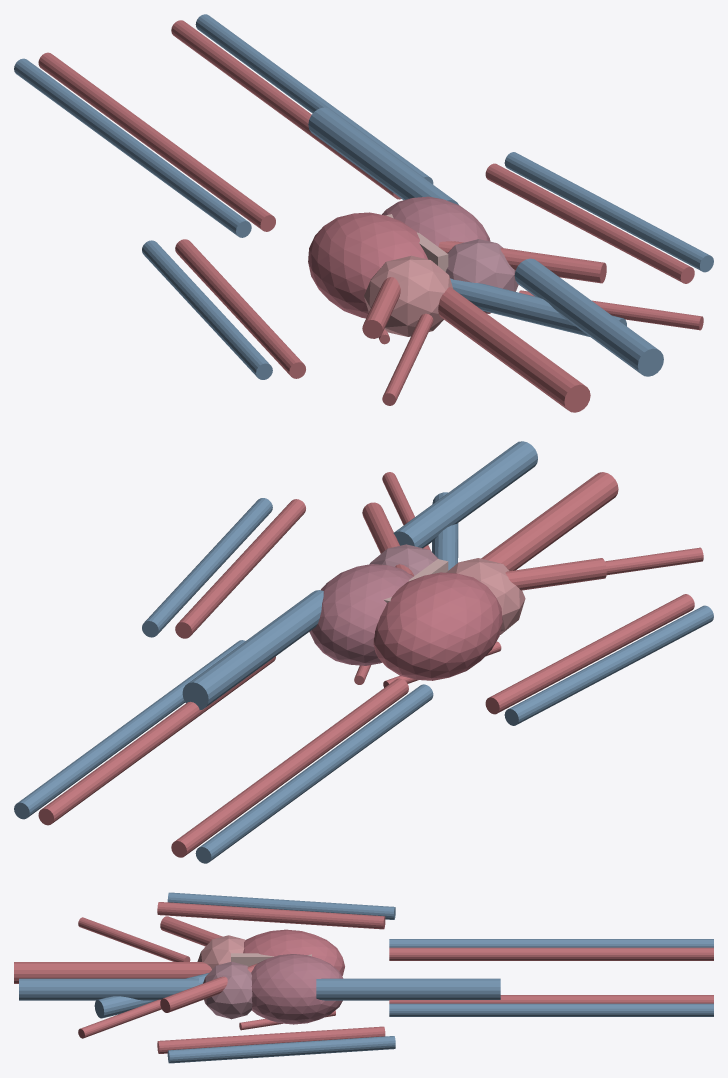
Rendered from cardiovascular-g3-medium.glb.
3 renders of one model, top to bottom at view 1: azimuth 30°, elevation 25°; view 2: azimuth 150°, elevation 25°; view 3: azimuth 270°, elevation 25°, orthographic. The views are drawn at different scales.
Visible parts, largest first — view 1: left_ventricle, aorta, left_leg_vein, left_leg_artery, superior_vena_cava, inferior_vena_cava, right_arm_artery, right_arm_vein, left_atrium, right_leg_artery, right_leg_vein, left_arm_vein (+8 smaller); view 2: left_ventricle, right_ventricle, left_leg_artery, left_leg_vein, inferior_vena_cava, superior_vena_cava, aorta, left_arm_artery, left_arm_vein, right_leg_vein, right_leg_artery, right_arm_vein (+8 smaller); view 3: right_ventricle, left_leg_artery, right_leg_vein, inferior_vena_cava, superior_vena_cava, aorta, right_arm_vein, left_arm_artery, left_leg_vein, left_arm_vein, right_arm_artery, right_leg_artery (+10 smaller).
Part boxes in pixels (x1,y1,x2,y2): left_ventricle: (308, 212, 427, 318); aorta: (438, 287, 590, 412); left_leg_vein: (14, 58, 251, 237); left_leg_artery: (38, 52, 275, 231); superior_vena_cava: (514, 258, 663, 376); inferior_vena_cava: (308, 107, 458, 204); right_arm_artery: (485, 163, 694, 283); right_arm_vein: (504, 152, 713, 272); left_atrium: (364, 255, 452, 336); right_leg_artery: (171, 20, 401, 199); right_leg_vein: (195, 14, 433, 184); left_arm_vein: (142, 240, 272, 379); left_ventricle: (373, 572, 502, 680); right_ventricle: (309, 564, 413, 665); left_leg_artery: (171, 678, 408, 857); left_leg_vein: (195, 684, 433, 863); inferior_vena_cava: (182, 590, 323, 709); superior_vena_cava: (393, 441, 537, 548); aorta: (481, 472, 618, 570); left_arm_artery: (485, 594, 694, 714); left_arm_vein: (504, 605, 713, 725); right_leg_vein: (14, 640, 245, 819); right_leg_artery: (38, 656, 275, 825); right_arm_vein: (142, 498, 272, 637); right_ventricle: (251, 954, 343, 1024); left_leg_artery: (389, 947, 713, 960); right_leg_vein: (389, 1003, 713, 1016); inferior_vena_cava: (316, 978, 500, 1000); superior_vena_cava: (19, 978, 198, 1000); aorta: (14, 962, 211, 983); right_arm_vein: (167, 1036, 395, 1063); left_arm_artery: (157, 902, 385, 929); left_leg_vein: (389, 939, 713, 947); left_arm_vein: (167, 892, 395, 919); right_arm_artery: (157, 1026, 385, 1053); right_leg_artery: (389, 995, 713, 1003).
Size of the model in its own units: 2.62 by 0.4856 by 4.75.
